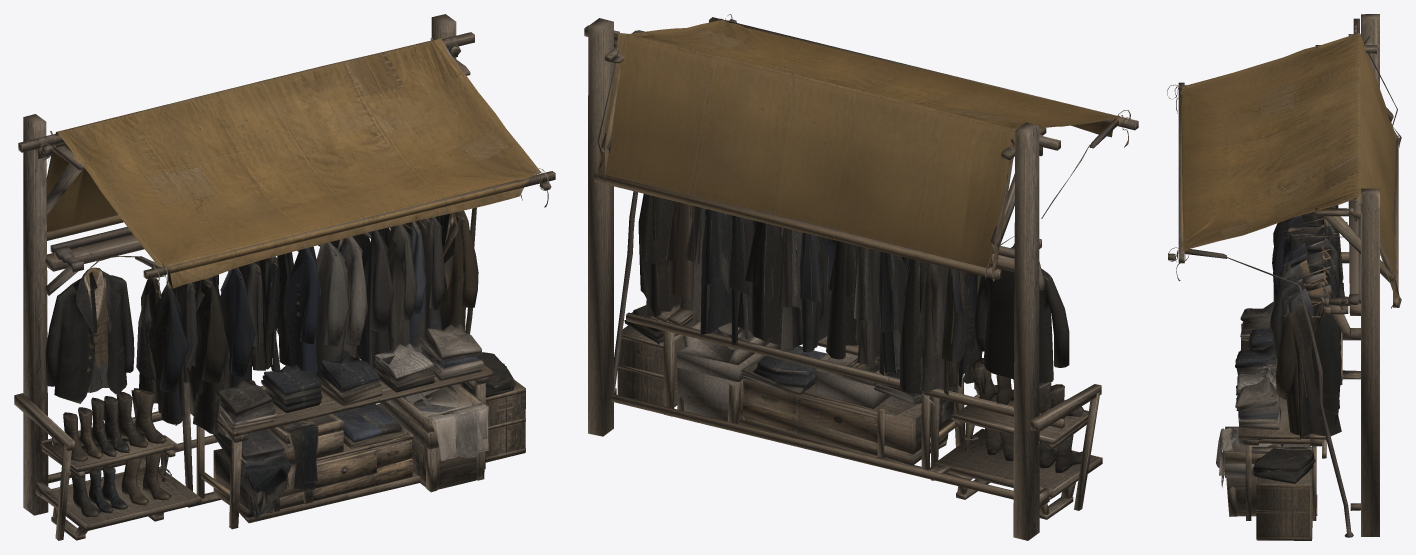
The model's file is ClothesStall.glb.
The picture shows the model from 3 angles, left to right: view 1: azimuth 30°, elevation 25°; view 2: azimuth 150°, elevation 25°; view 3: azimuth 270°, elevation 25°; orthographic projection. The views are drawn at different scales.
Size of the model in its own units: 0.9536 by 0.7866 by 0.4873.
Materials: 1 (1 with a texture image).
